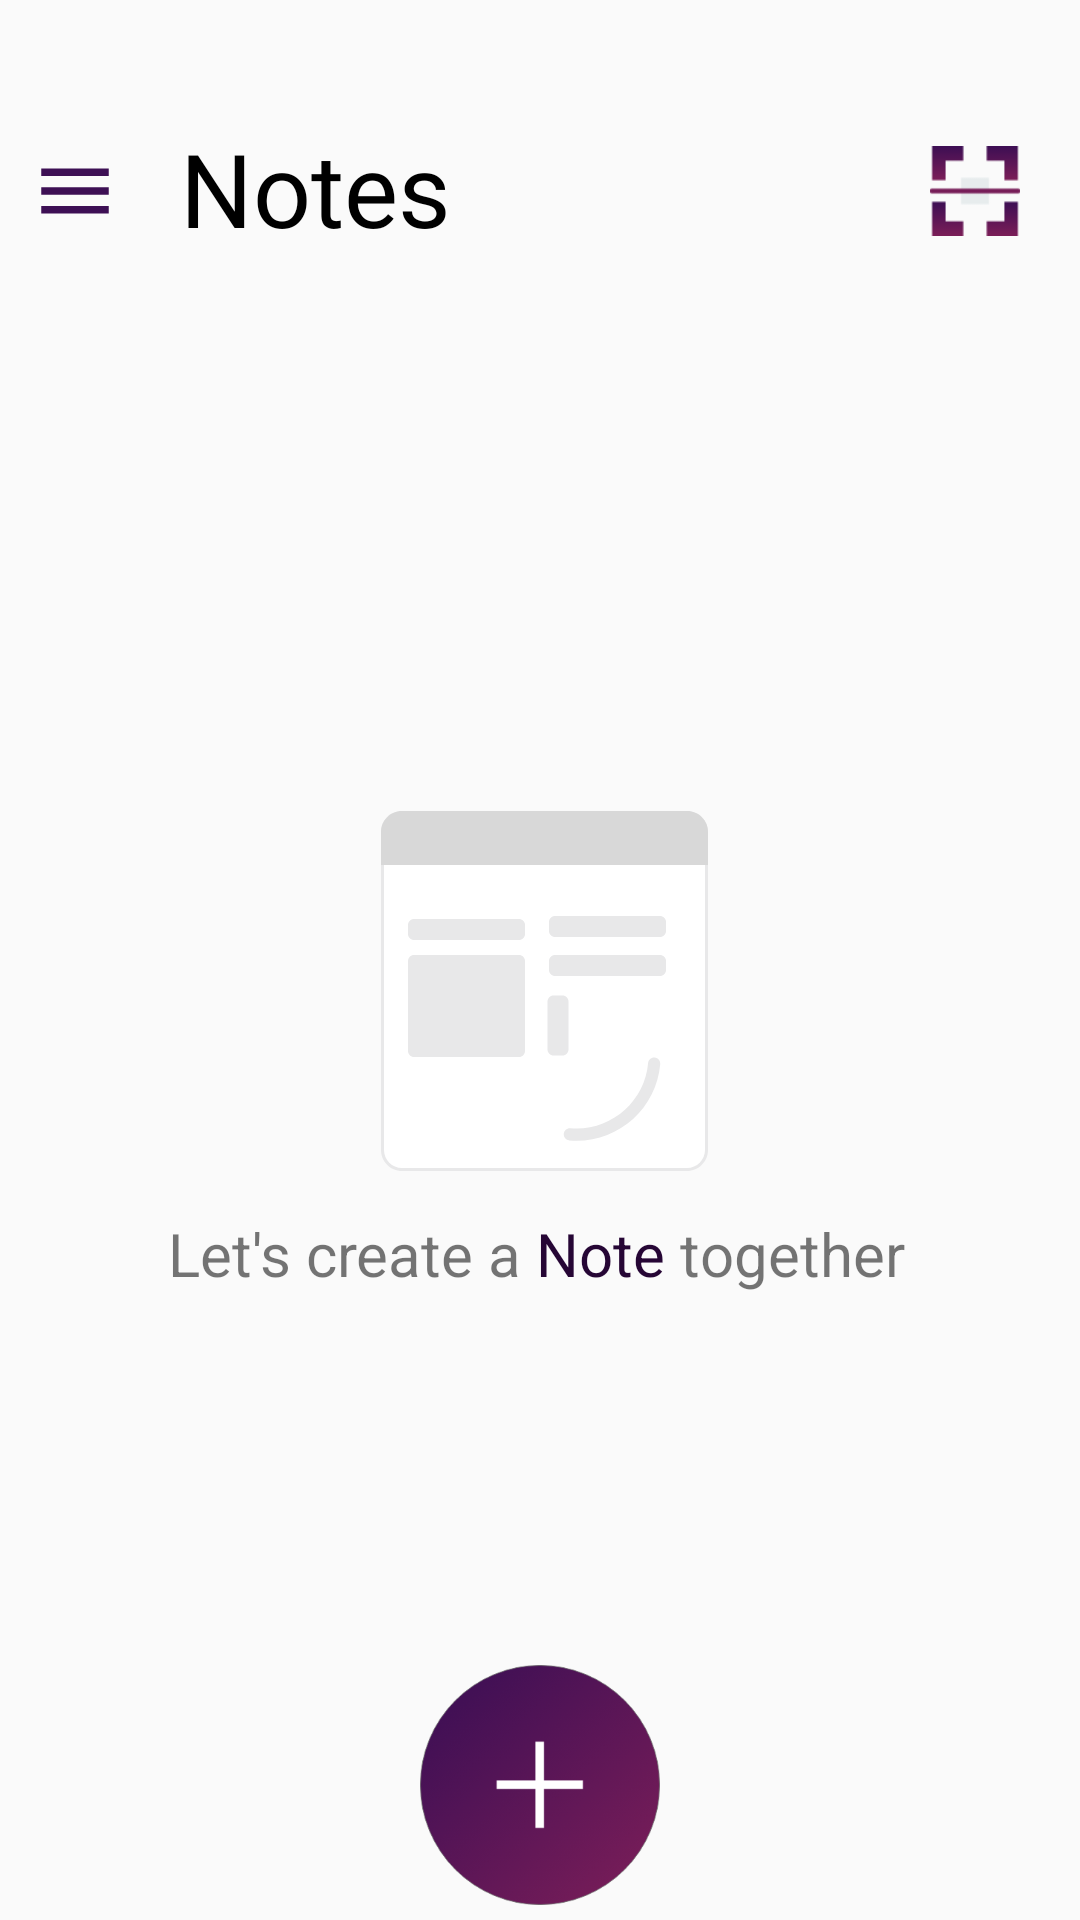

Icons on this 1080px×1920px Android screen, each with the point to tap as (x=x, y=y):
add notes: (x=540, y=1785)
scan: (x=975, y=191)
